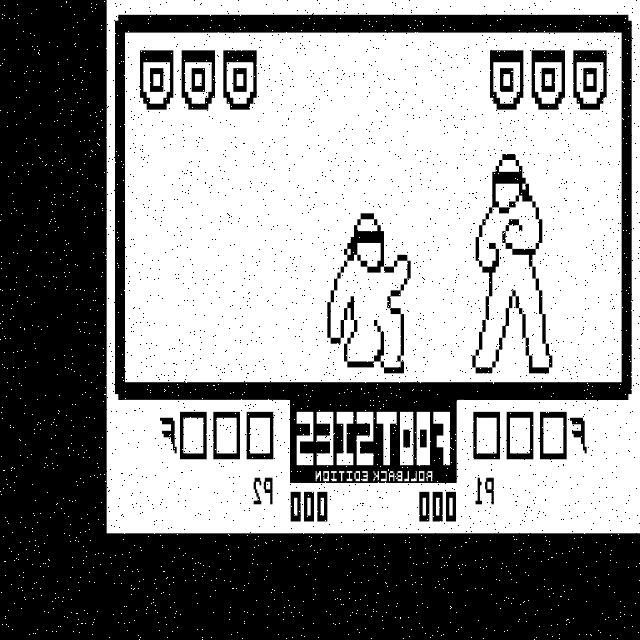Idle: (463, 148, 566, 378)
Kick: (325, 207, 414, 376)
